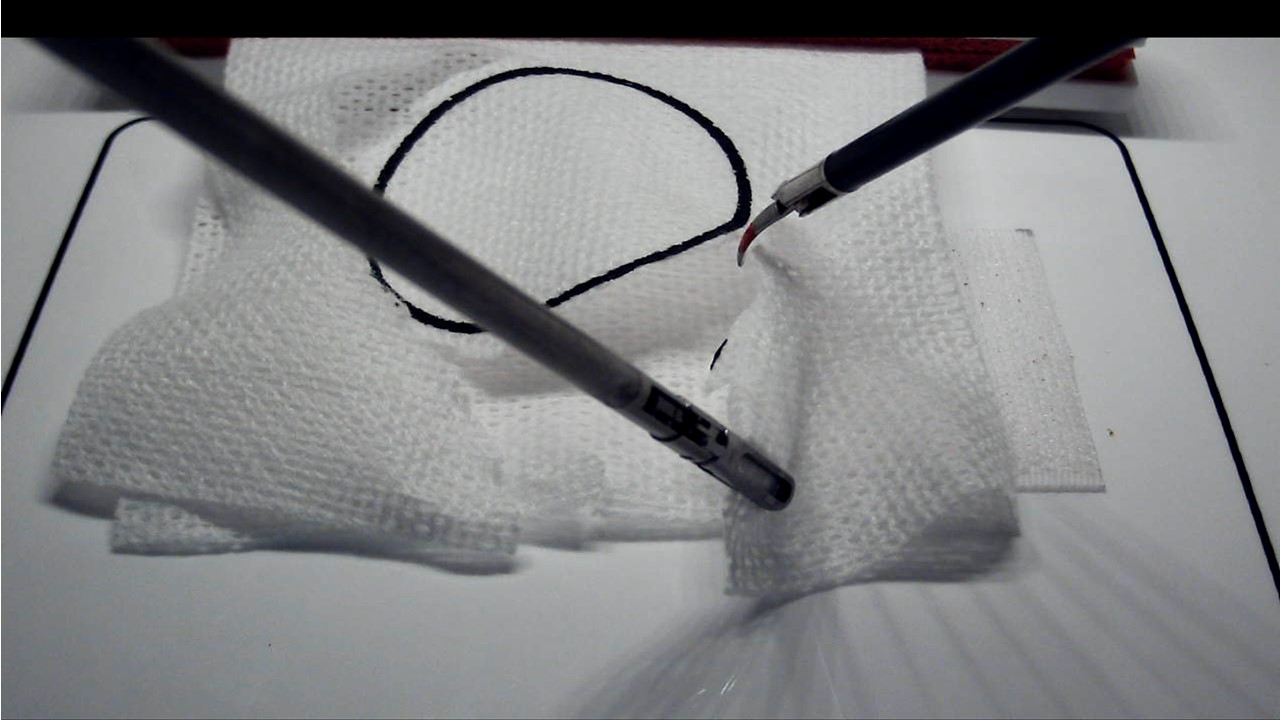Circle: (364, 67, 755, 334)
Grasper: (699, 424, 796, 509)
Scissor: (735, 196, 788, 269)
